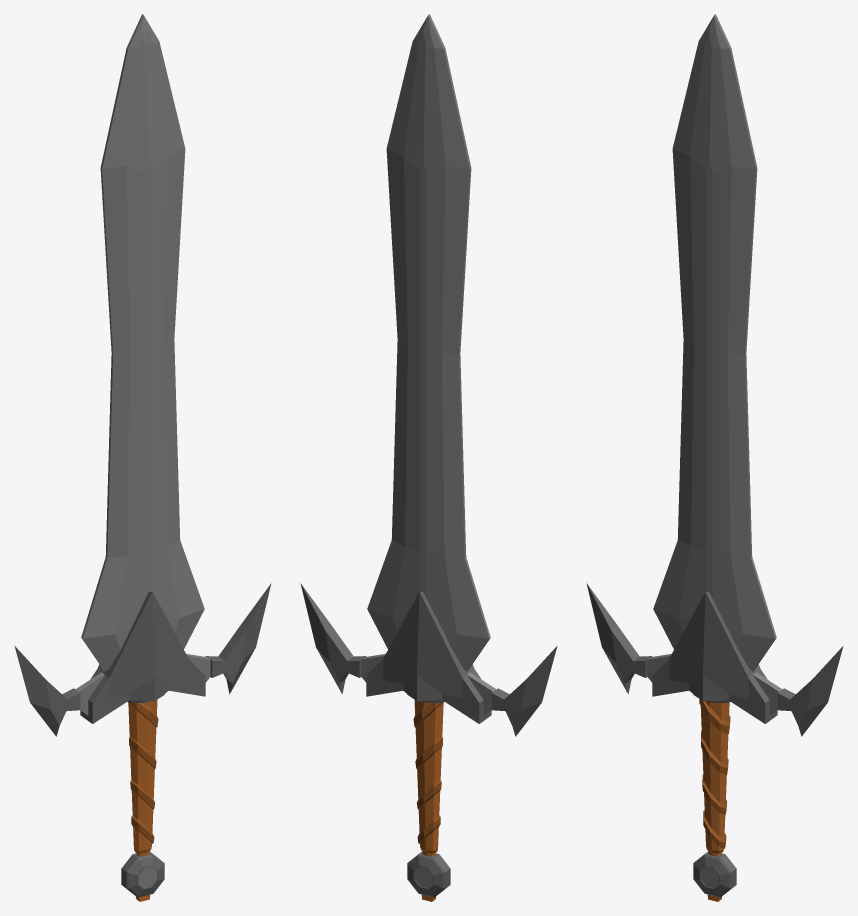
The model's file is Sword_Big.fbx.
The picture shows the model from 3 angles, left to right: view 1: azimuth 30°, elevation 25°; view 2: azimuth 150°, elevation 25°; view 3: azimuth 330°, elevation 25°; orthographic projection.
Visible parts, largest first — view 1: Sword_Big; view 2: Sword_Big; view 3: Sword_Big.
Part boxes in pixels (x1,y1,x2,y2): Sword_Big: (14,14,271,901); Sword_Big: (300,14,557,901); Sword_Big: (586,14,843,901).
Bounding box in the file's own units: 114 × 373 × 18.5.
